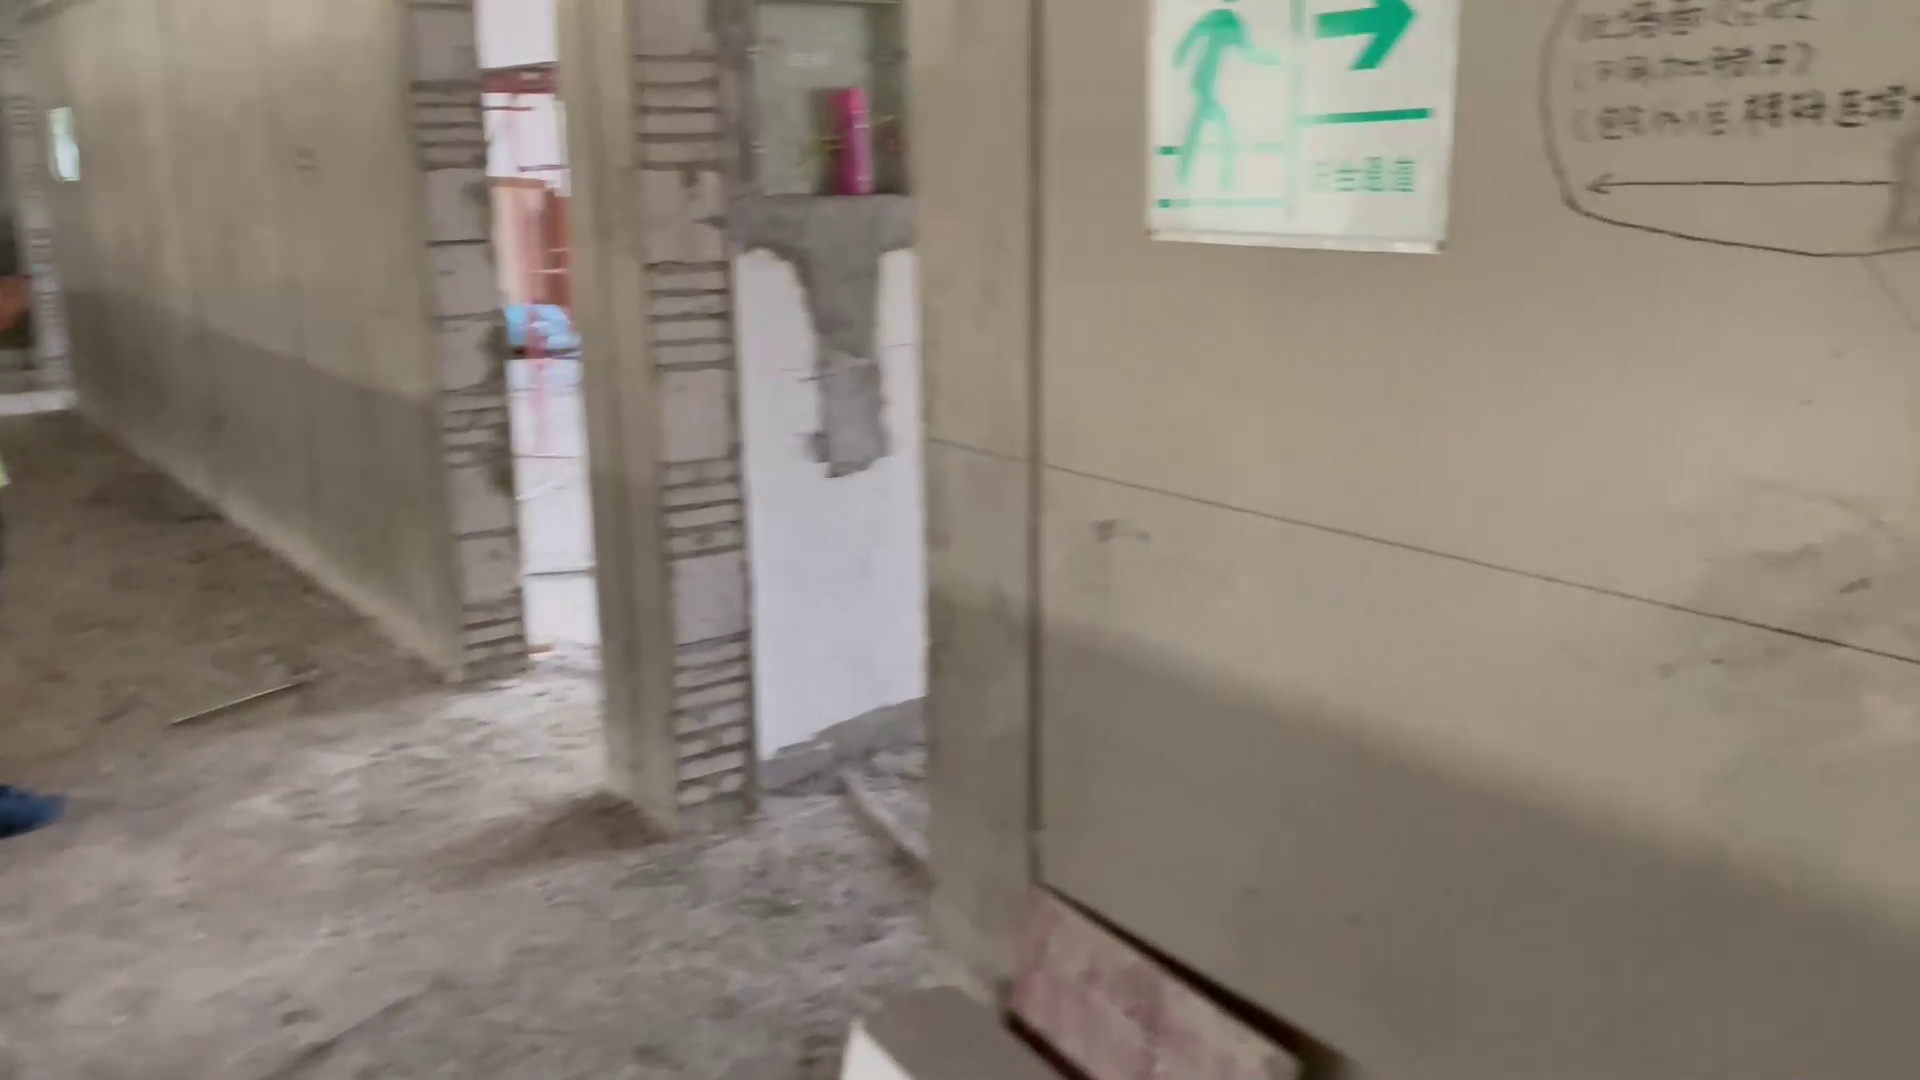slogan: (1153, 7, 1440, 261)
